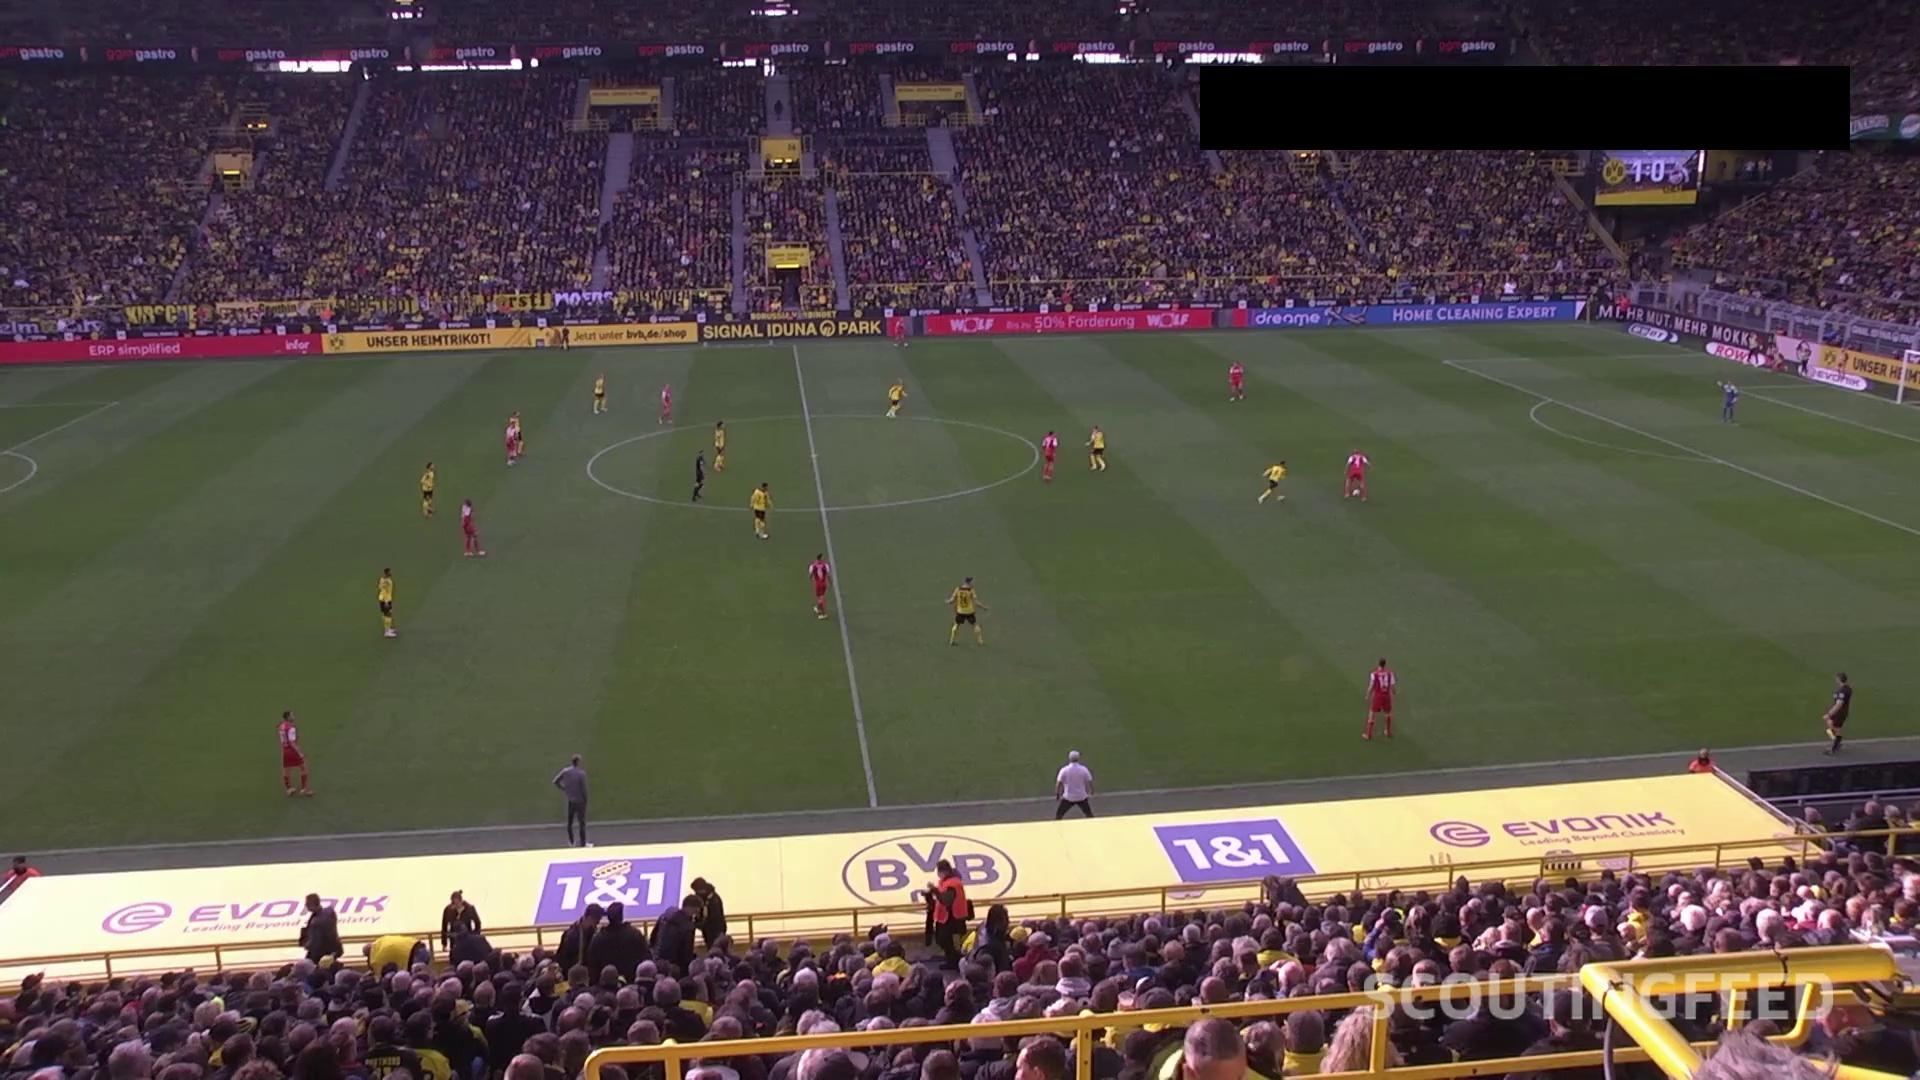Location-of-ball: (1337, 481, 1379, 505)
